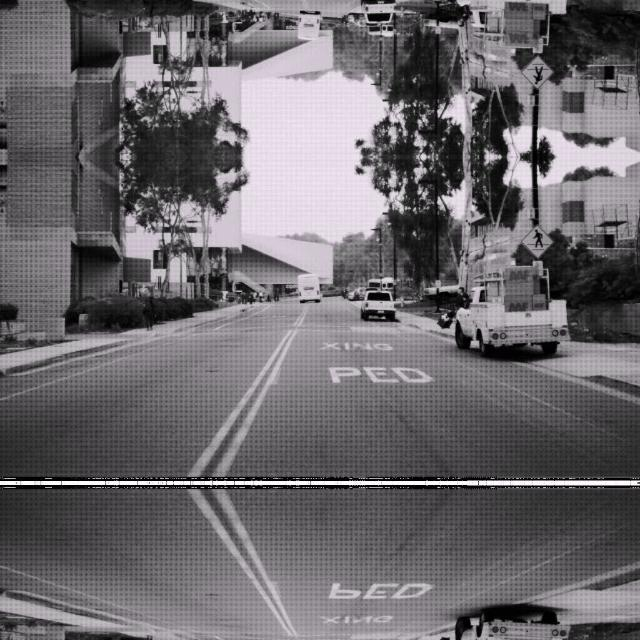pedestrianCrossing: (520, 222, 552, 258), (520, 54, 552, 90)
